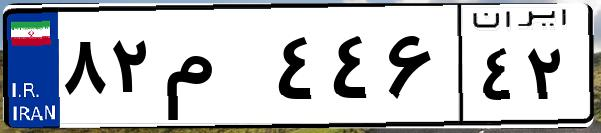2: (525, 38, 570, 115), (110, 28, 158, 98)
4: (270, 28, 330, 110), (330, 28, 385, 110), (475, 38, 525, 113)
6: (385, 28, 445, 110)
8: (57, 26, 110, 100)
م: (158, 20, 270, 120)
